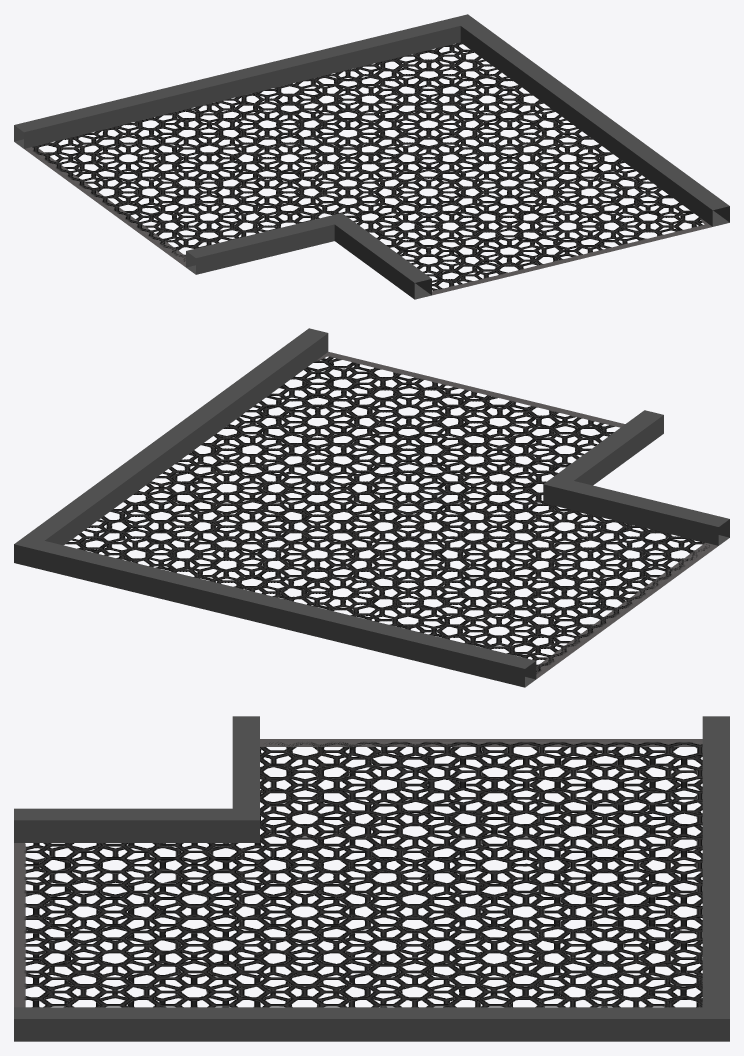
File: curfcatwalk.fbx
3 views of the same model, one above another, from view 1: azimuth 30°, elevation 25°; view 2: azimuth 150°, elevation 25°; view 3: azimuth 270°, elevation 25° (orthographic). The views are drawn at different scales.
Visible parts, largest first — view 1: curfcatwalk; view 2: curfcatwalk; view 3: curfcatwalk.
Part boxes in pixels (left/top/right/bottom): curfcatwalk: left=14, top=14, right=729, bottom=299; curfcatwalk: left=14, top=328, right=729, bottom=687; curfcatwalk: left=14, top=716, right=729, bottom=1041.
Bounding box in the file's own units: 40.56 × 1.42 × 40.56.
